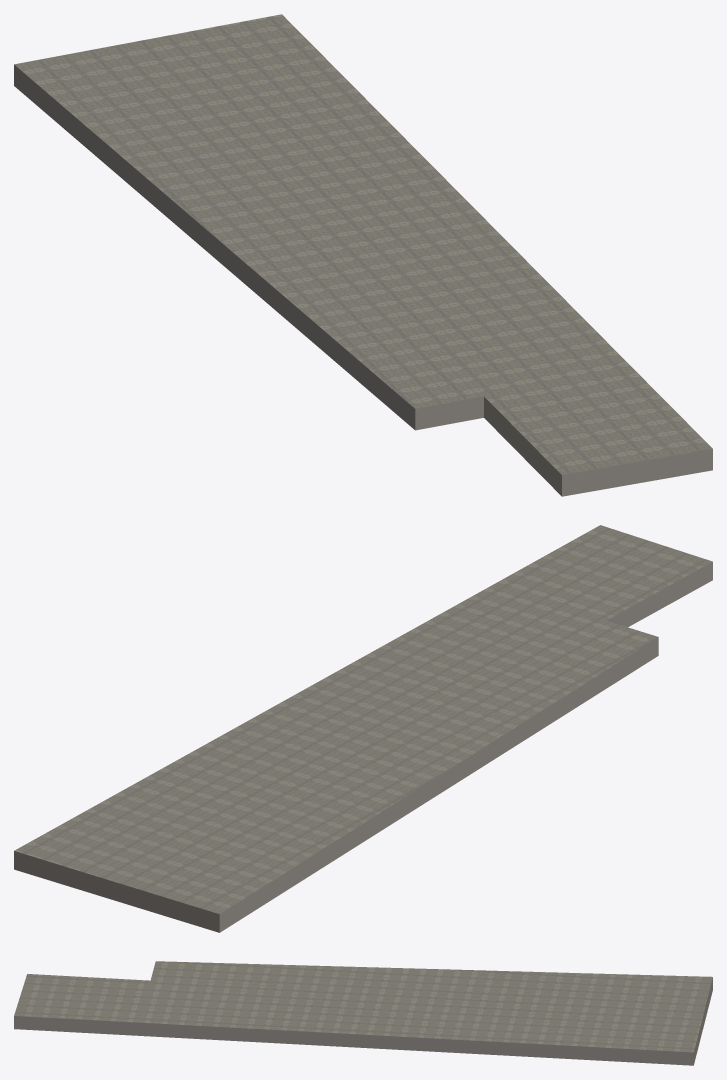
The picture shows the model from 3 angles, top to bottom: view 1: azimuth 30°, elevation 25°; view 2: azimuth 150°, elevation 25°; view 3: azimuth 270°, elevation 25°; orthographic projection. The views are drawn at different scales.
Visible parts, largest first — view 1: Landing wearing course, Exposed deck edge; view 2: Landing wearing course, Exposed deck edge; view 3: Landing wearing course, Exposed deck edge.
Boxes of the visible parts, bbox=[...] form: Landing wearing course: bbox=[14, 14, 712, 474]; Exposed deck edge: bbox=[14, 64, 712, 496]; Landing wearing course: bbox=[14, 525, 712, 913]; Exposed deck edge: bbox=[14, 562, 712, 932]; Landing wearing course: bbox=[14, 961, 712, 1052]; Exposed deck edge: bbox=[14, 978, 712, 1065].
Size of the model in its own units: 10.67 by 0.72 by 34.51.
3 materials, 1 textured.
